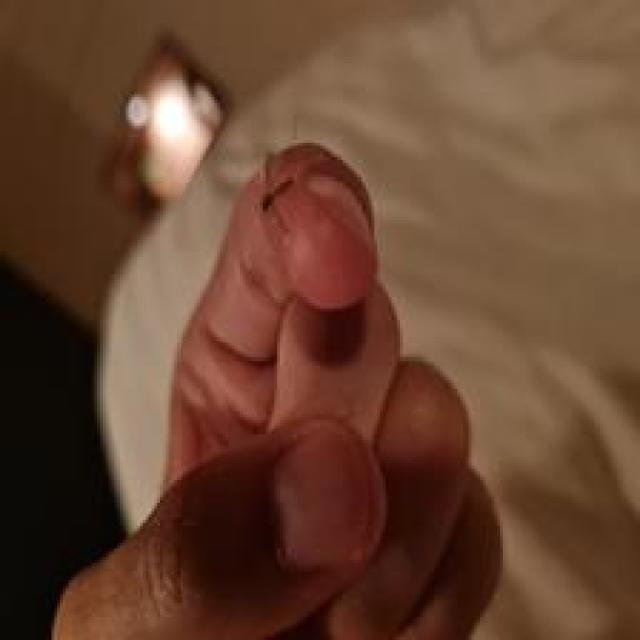Culex: (108, 30, 232, 213)
